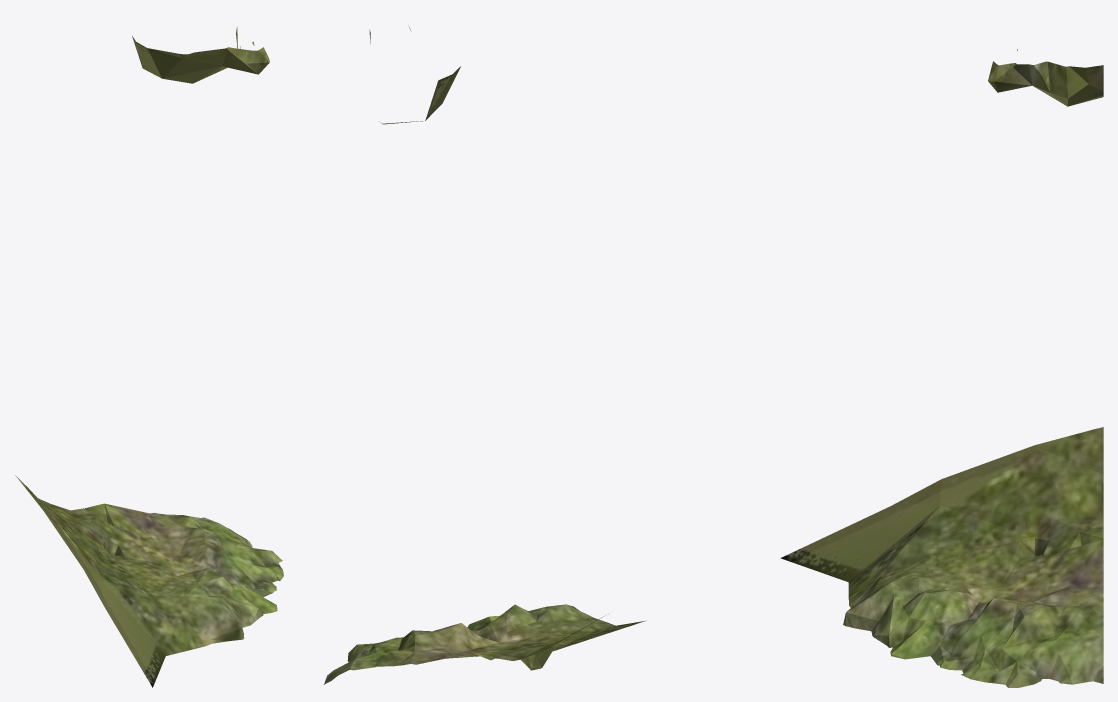
The picture shows the model from 3 angles, left to right: view 1: azimuth 30°, elevation 25°; view 2: azimuth 150°, elevation 25°; view 3: azimuth 270°, elevation 25°; orthographic projection. The views are drawn at different scales.
Bounding box in the file's own units: 2.69 × 5.9 × 2.84.
Materials: 1 (1 with a texture image).
